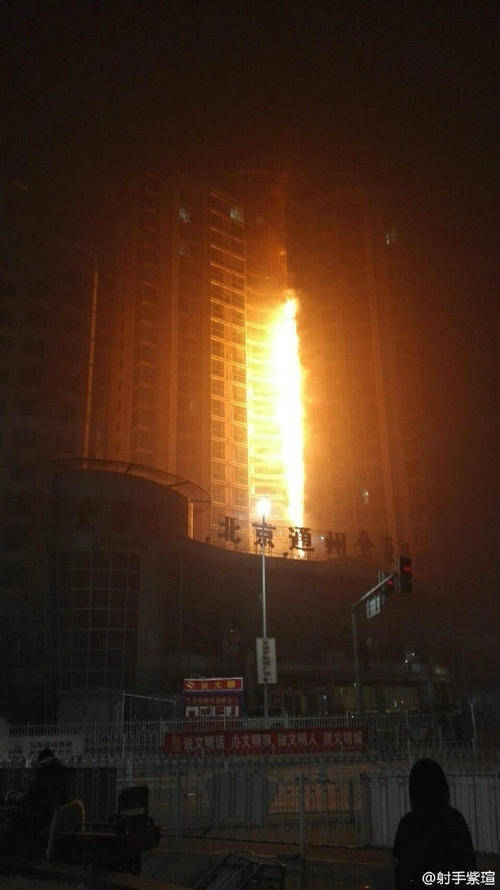fire: (249, 284, 313, 534)
